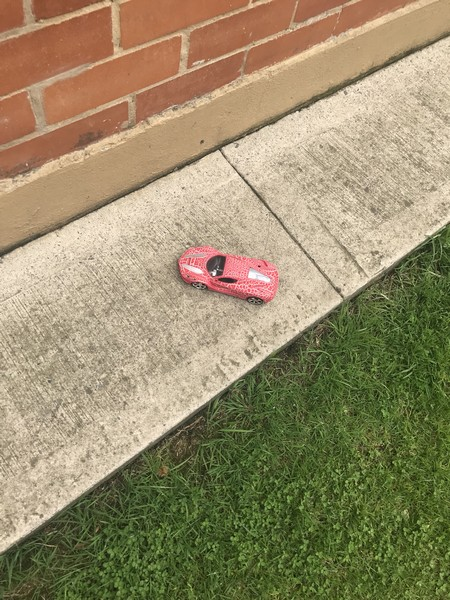RC: (177, 244, 280, 306)
